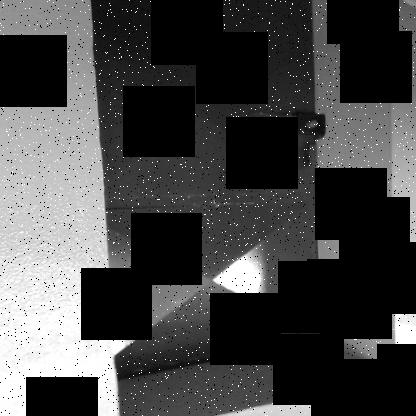Porte: (91, 1, 323, 381)
